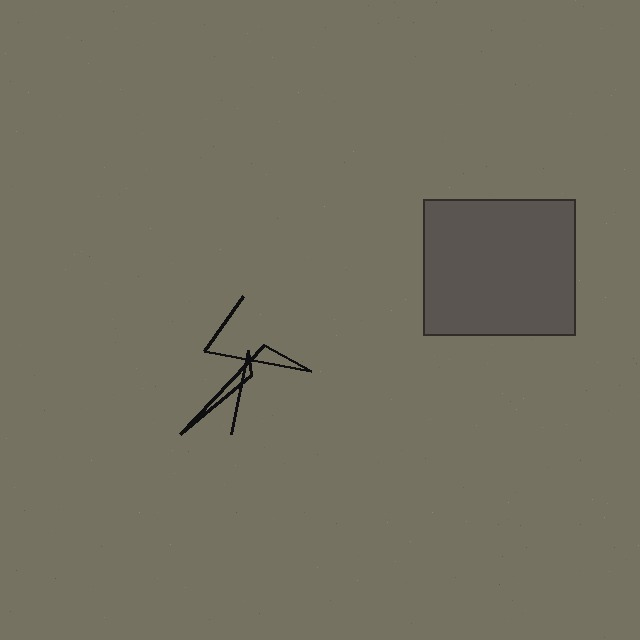concrete_damage: (423, 199, 575, 335)
crocodile_crack: (179, 253, 377, 447)
